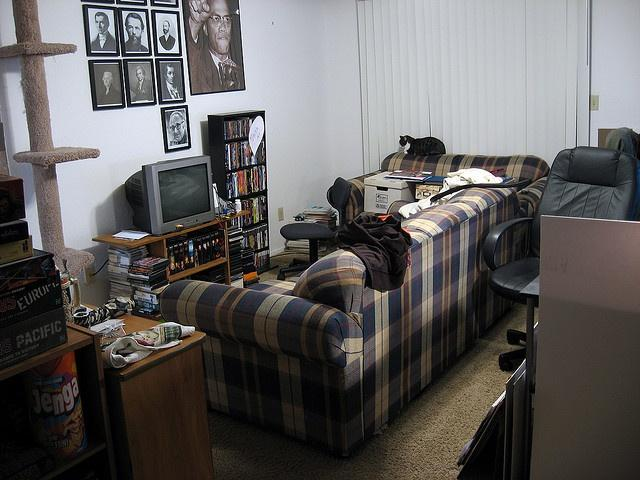AIO PC-Monitor-TV: (150, 155, 215, 235)
Kursi: (484, 146, 639, 307)
